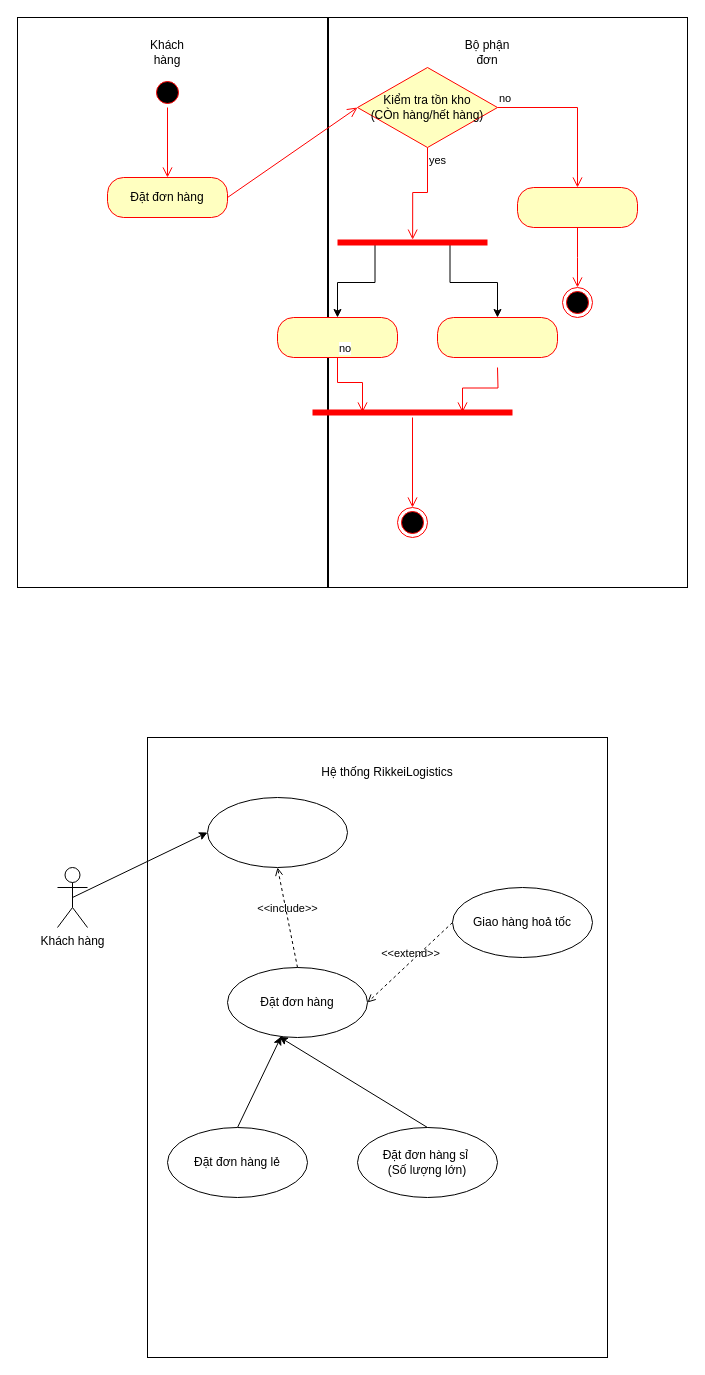
This 705x1375 diagram has some shape labels left out. The shapes that lost their labels are listed below. From the top down, each one's centre as x and y in pixels, then its label:
(x=577, y=207): Báo hoàn tiền
(x=337, y=337): Đóng gói đơn hàng
(x=497, y=337): Gửi thông báo xuất kho cho khách hàng
(x=277, y=832): Đăng nhập
